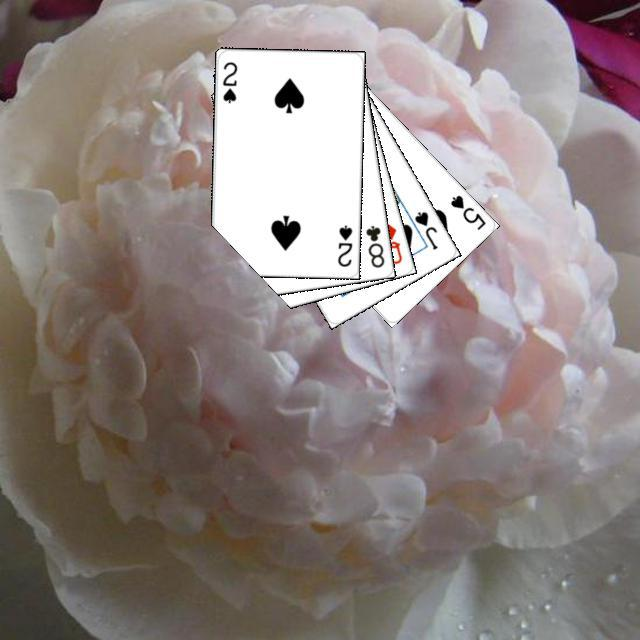2s: (217, 57, 239, 104), (333, 220, 354, 268)
5s: (446, 190, 487, 232)
8c: (361, 220, 386, 269)
Js: (409, 206, 439, 251)
Qd: (377, 218, 404, 266)
